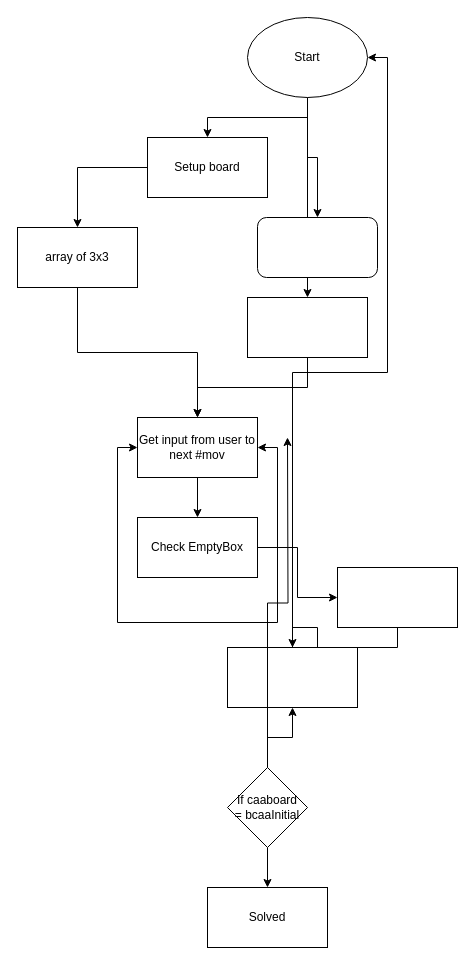
The diagram is 475 pixels wide and 965 high, and some of its shapes have lost their labels. The shapes that lost their labels are listed below. From the top down, each one's centre as x and y in pixels, then its label:
[317,247]: Randomize shuffle pieces
[307,327]: Print Board
[397,597]: Move number accoring to empty space
[292,677]: Check win
